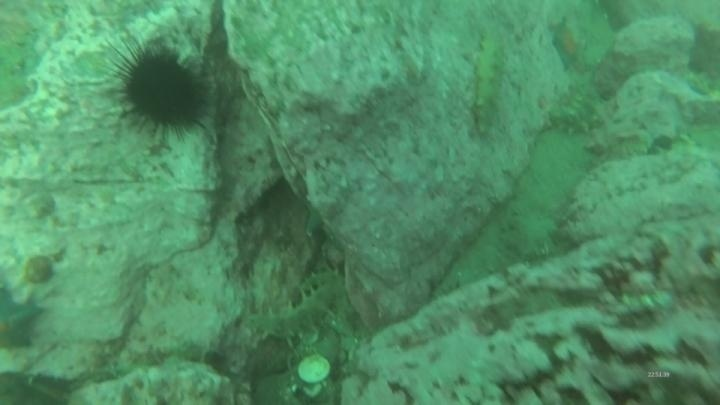echinus: (109, 40, 210, 142)
holothurian: (245, 265, 350, 344), (468, 27, 508, 139), (547, 76, 605, 137)
starfish: (1, 281, 49, 354), (547, 17, 587, 72)
